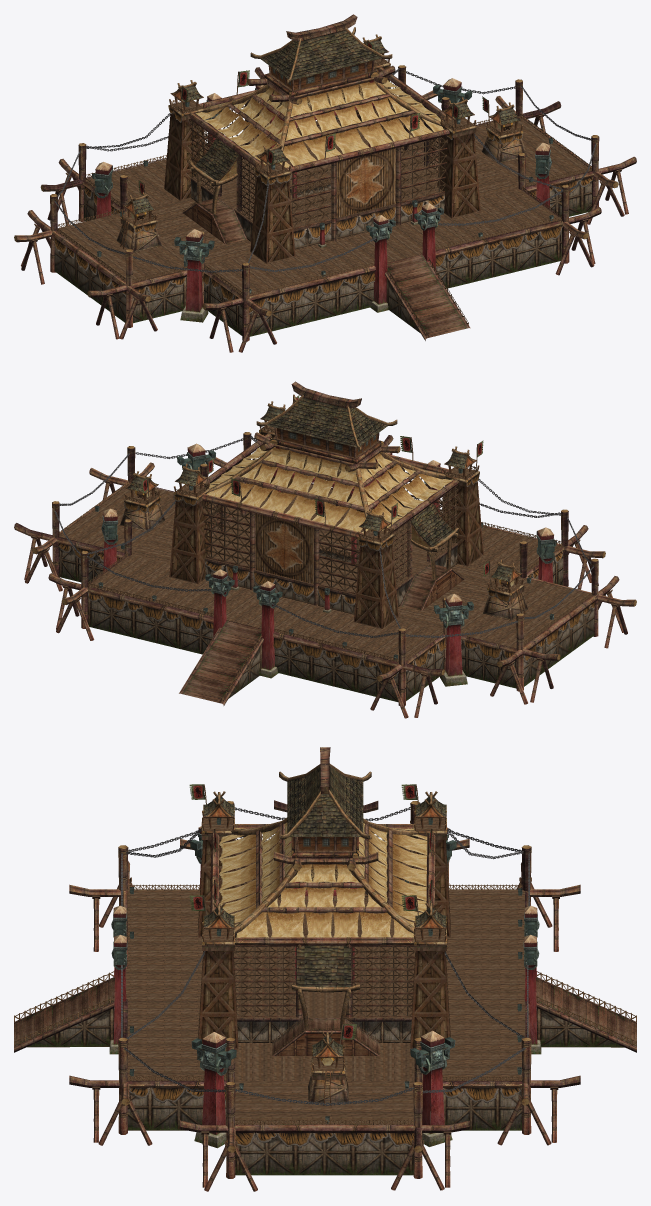
Rendered from cj_thiefvill_01_01.glb.
3 views of the same model, one above another, from view 1: azimuth 30°, elevation 25°; view 2: azimuth 150°, elevation 25°; view 3: azimuth 270°, elevation 25° (orthographic). The views are drawn at different scales.
Visible parts, largest first — view 1: cj_thiefvill_16_16, cj_thiefvill_14_14, cj_thiefvill_01_01, cj_thiefvill_13_13, cj_thiefvill_17_17, cj_thiefvill_08_08, cj_thiefvill_04_04, cj_thiefvill_12_12, cj_thiefvill_02_02, cj_thiefvill_11_11, cj_thiefvill_21_21, cj_thiefvill_09_09; view 2: cj_thiefvill_16_16, cj_thiefvill_14_14, cj_thiefvill_01_01, cj_thiefvill_13_13, cj_thiefvill_17_17, cj_thiefvill_08_08, cj_thiefvill_04_04, cj_thiefvill_12_12, cj_thiefvill_02_02, cj_thiefvill_11_11, cj_thiefvill_21_21, cj_thiefvill_09_09; view 3: cj_thiefvill_14_14, cj_thiefvill_16_16, cj_thiefvill_13_13, cj_thiefvill_01_01, cj_thiefvill_08_08, cj_thiefvill_17_17, cj_thiefvill_04_04, cj_thiefvill_12_12, cj_thiefvill_02_02, cj_thiefvill_21_21, cj_thiefvill_09_09.
Boxes of the visible parts, x1,y1,x2,y2 form: cj_thiefvill_16_16: (14,14,636,352); cj_thiefvill_14_14: (56,58,591,295); cj_thiefvill_01_01: (53,27,593,314); cj_thiefvill_13_13: (195,77,443,167); cj_thiefvill_17_17: (164,78,480,263); cj_thiefvill_08_08: (92,60,553,322); cj_thiefvill_04_04: (195,30,443,180); cj_thiefvill_12_12: (190,79,447,229); cj_thiefvill_02_02: (56,41,591,337); cj_thiefvill_11_11: (250,98,395,217); cj_thiefvill_21_21: (54,68,596,272); cj_thiefvill_09_09: (184,205,223,242); cj_thiefvill_16_16: (14,381,636,718); cj_thiefvill_14_14: (59,425,592,662); cj_thiefvill_01_01: (57,394,594,678); cj_thiefvill_13_13: (206,438,453,533); cj_thiefvill_17_17: (169,444,483,628); cj_thiefvill_08_08: (95,443,556,686); cj_thiefvill_04_04: (206,397,453,547); cj_thiefvill_12_12: (202,444,458,594); cj_thiefvill_02_02: (59,395,593,703); cj_thiefvill_11_11: (255,464,401,583); cj_thiefvill_21_21: (54,436,594,637); cj_thiefvill_09_09: (423,571,463,609); cj_thiefvill_14_14: (125,818,525,1124); cj_thiefvill_16_16: (14,747,636,1191); cj_thiefvill_13_13: (219,822,427,941); cj_thiefvill_01_01: (129,763,521,1147); cj_thiefvill_08_08: (109,818,541,1148); cj_thiefvill_17_17: (198,840,450,1049); cj_thiefvill_04_04: (287,766,363,986); cj_thiefvill_12_12: (233,834,415,1017); cj_thiefvill_02_02: (14,784,636,1124); cj_thiefvill_21_21: (121,807,529,1105); cj_thiefvill_09_09: (276,1033,375,1055).
Size of the model in its own units: 184 by 70.96 by 147.
14 materials, 14 textured.
